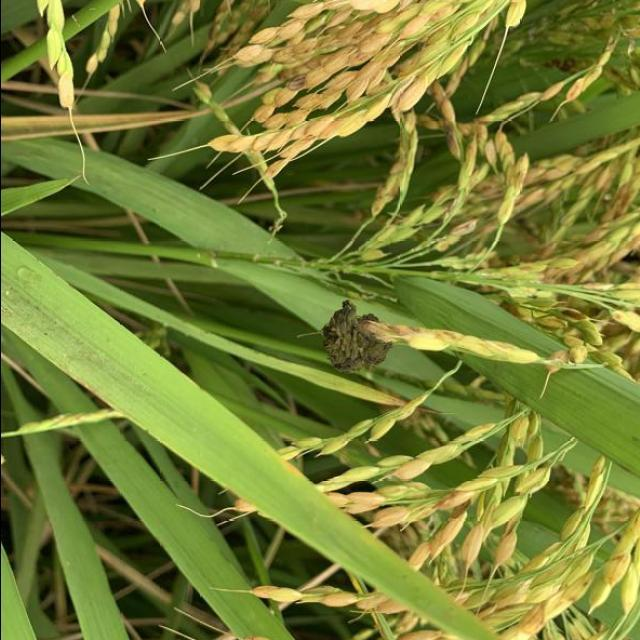Leaf_Scald: (319, 302, 395, 378)
